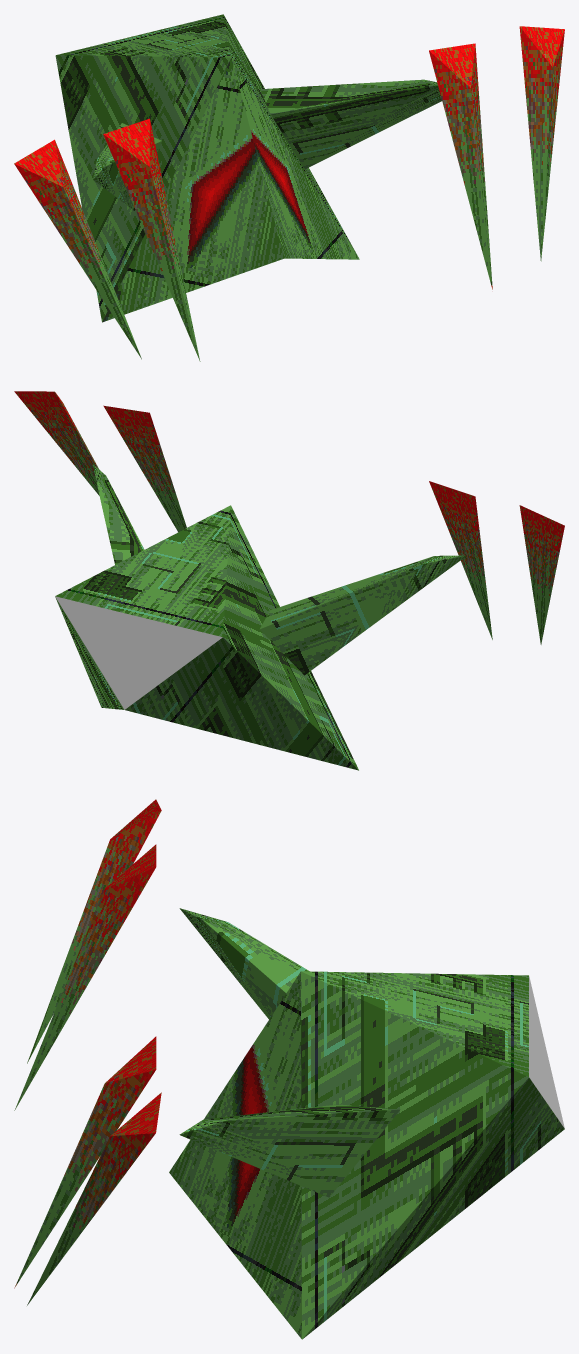
Rendered from model_003_robot_noname.glb.
The picture shows the model from 3 angles, top to bottom: view 1: azimuth 30°, elevation 25°; view 2: azimuth 150°, elevation 25°; view 3: azimuth 270°, elevation 25°; orthographic projection. The views are drawn at different scales.
Visible parts, largest first — view 1: model_003; view 2: model_003; view 3: model_003.
Part boxes in pixels (x1,y1,x2,y2): model_003: (14,14,564,361); model_003: (14,391,564,770); model_003: (14,799,564,1339).
Bounding box in the file's own units: 7 × 3.03 × 4.88.
4 materials, 3 textured.
